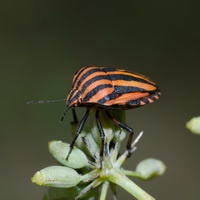insect: (61, 67, 160, 159)
